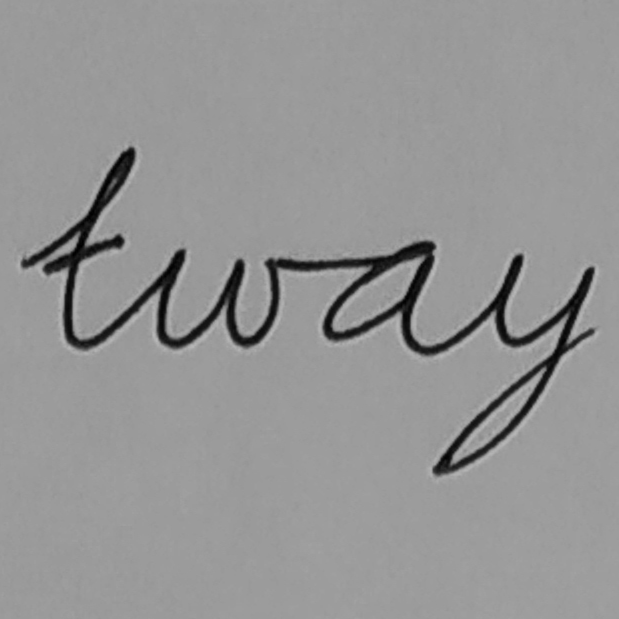a: (317, 234, 440, 358)
t: (39, 144, 137, 352)
w: (151, 245, 284, 354)
y: (427, 250, 597, 478)
